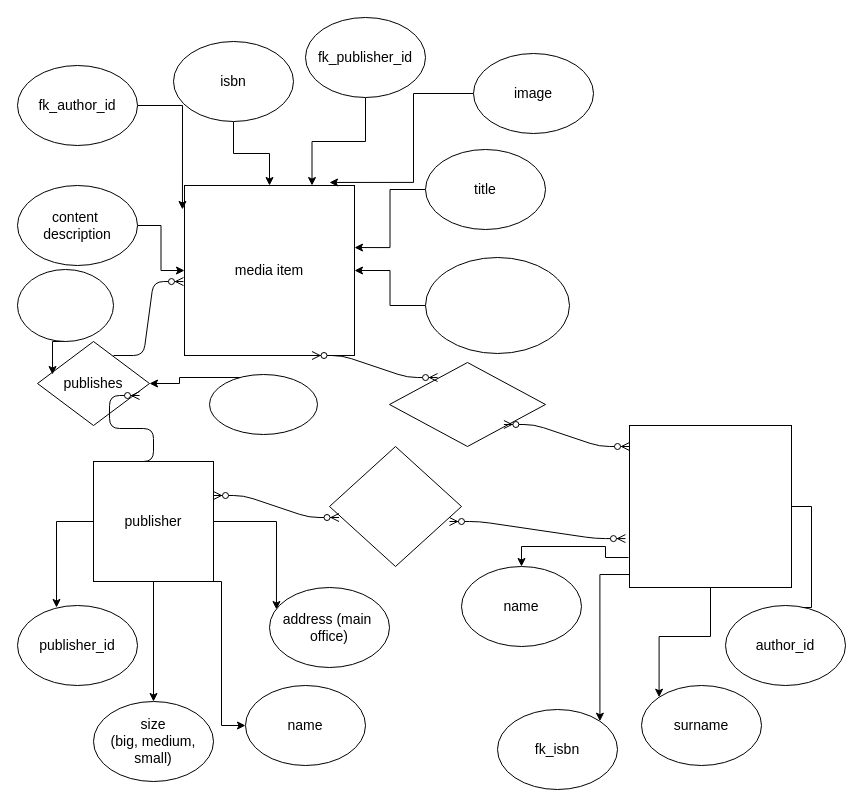
Image size: 863x807. Some labels were removed from this diagram. The shapes that lost their labels are listed below. From the top down, each one's centre as x and y in pixels, then its label:
At [65,305]: "year of publication".
At [497,305]: "type (book, CD, DVD)".
At [263,404]: "publishing_id".
At [467,404]: "produces".
At [395,506]: "contracts".
At [710,506]: "author".
